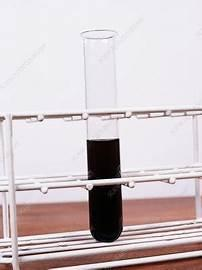Test tube: (73, 31, 126, 244)
